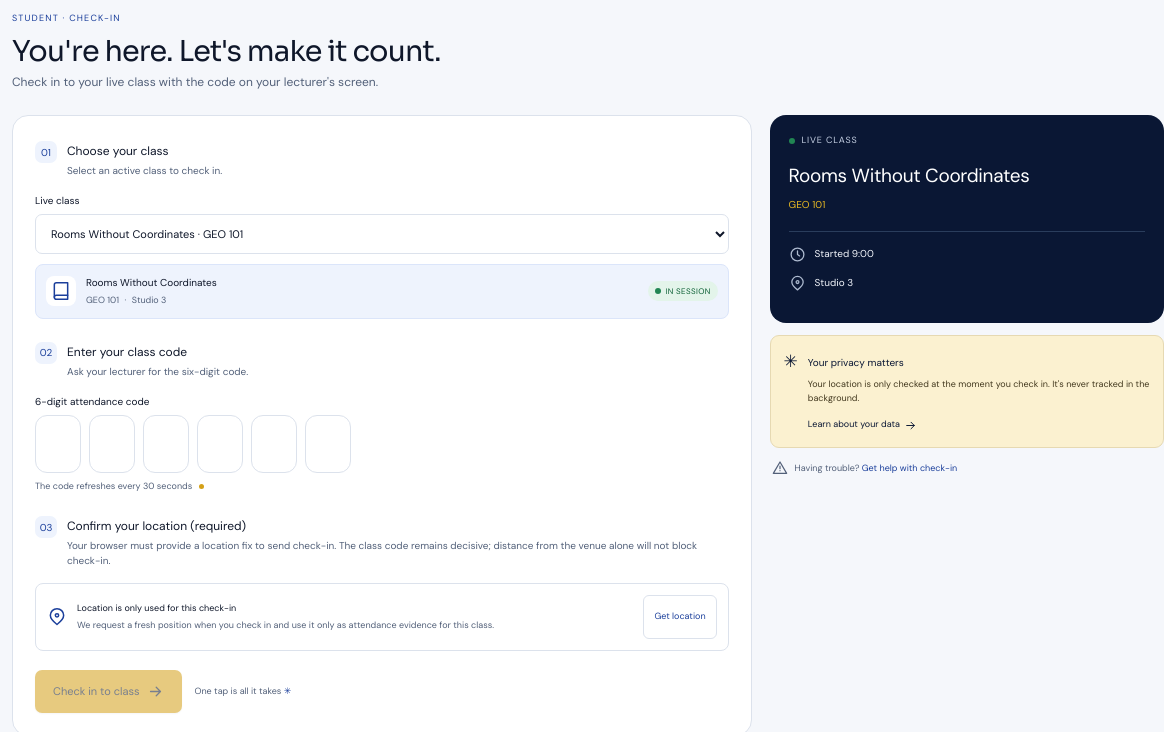
Test: student check-in › requests and sends a GPS fix with the device hash when checking in
Type "418203" into the field named "Code digit 1" at {"x": 58, "y": 444}, box left=35, top=415, right=81, bottom=473
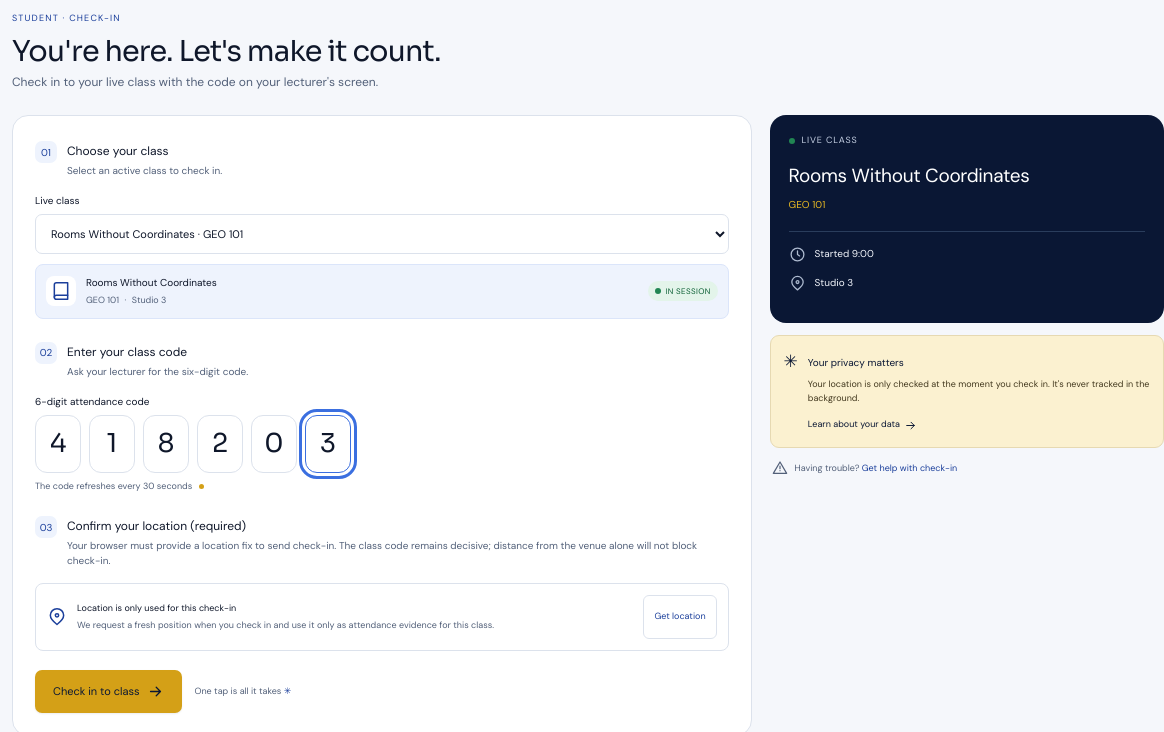
Click the button "Check in to class" at {"x": 109, "y": 692}, box left=35, top=670, right=182, bottom=713
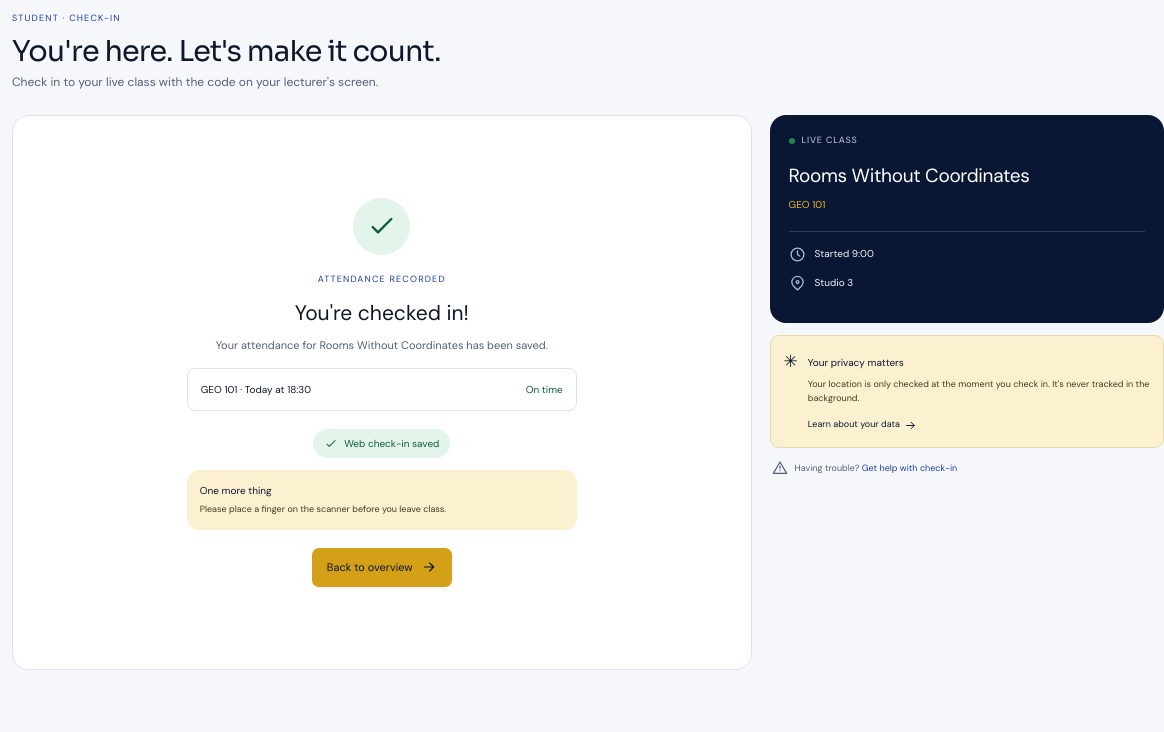
Expected: the heading "You're checked in!" is shown, left=295, top=298, right=469, bottom=329
